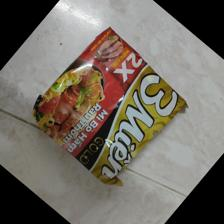3mien: (32, 25, 190, 189)
